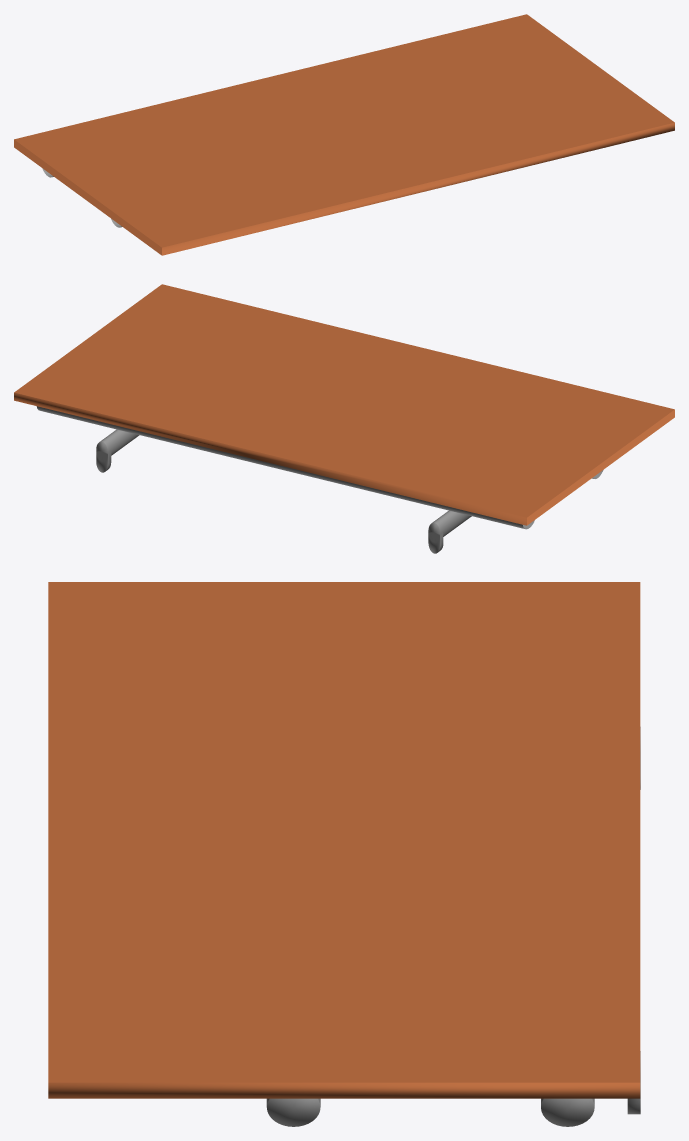
The model's file is mesaPC.fbx.
The picture shows the model from 3 angles, top to bottom: view 1: azimuth 30°, elevation 25°; view 2: azimuth 150°, elevation 25°; view 3: azimuth 270°, elevation 25°; orthographic projection. The views are drawn at different scales.
Visible parts, largest first — view 1: Plane; view 2: Plane; view 3: Plane.
Boxes of the visible parts, x1,y1,x2,y2 form: Plane: [14, 14, 674, 255]; Plane: [14, 284, 674, 553]; Plane: [48, 582, 640, 1126].
Size of the model in its own units: 200 by 21.78 by 100.
